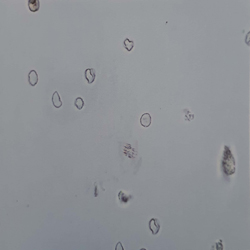RBC: (137, 108, 156, 135), (119, 35, 136, 59), (50, 88, 65, 113), (25, 67, 38, 91), (81, 67, 97, 85), (72, 96, 86, 115), (148, 218, 161, 236), (112, 238, 124, 250)
